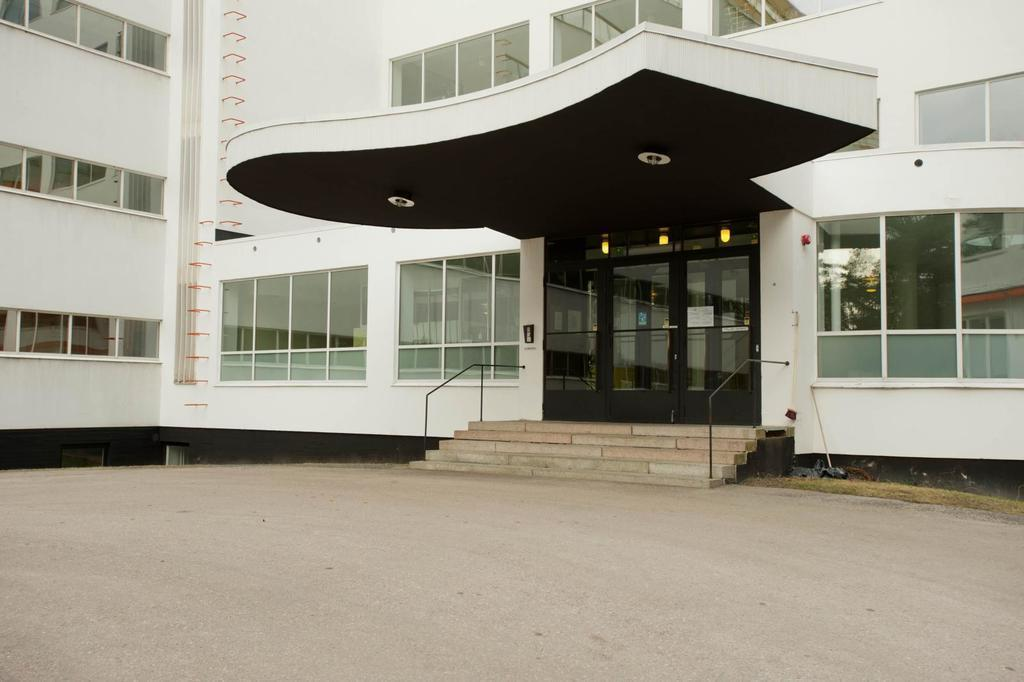door: (606, 253, 674, 414), (681, 254, 745, 412)
handle: (611, 320, 676, 340), (682, 318, 744, 336)
